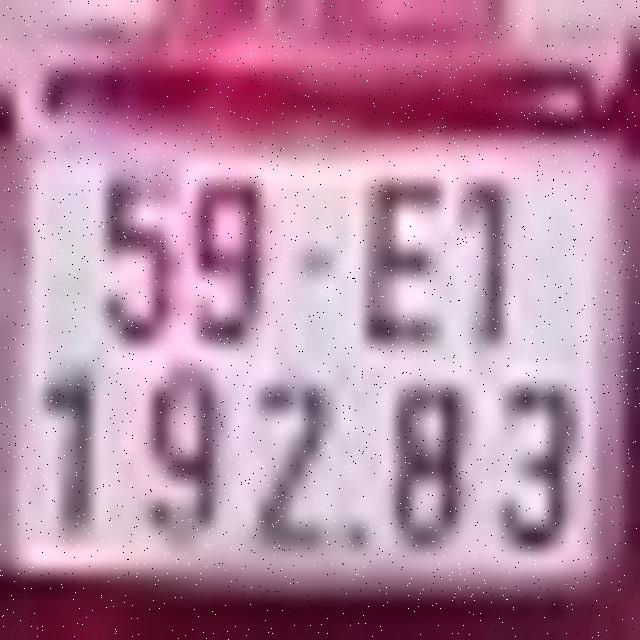1: (41, 364, 97, 538), (459, 171, 512, 348)
2: (252, 373, 331, 553)
3: (498, 374, 578, 554)
5: (99, 170, 179, 346)
8: (390, 376, 466, 552)
9: (145, 361, 220, 549), (192, 173, 264, 348)
E: (362, 172, 449, 350)
